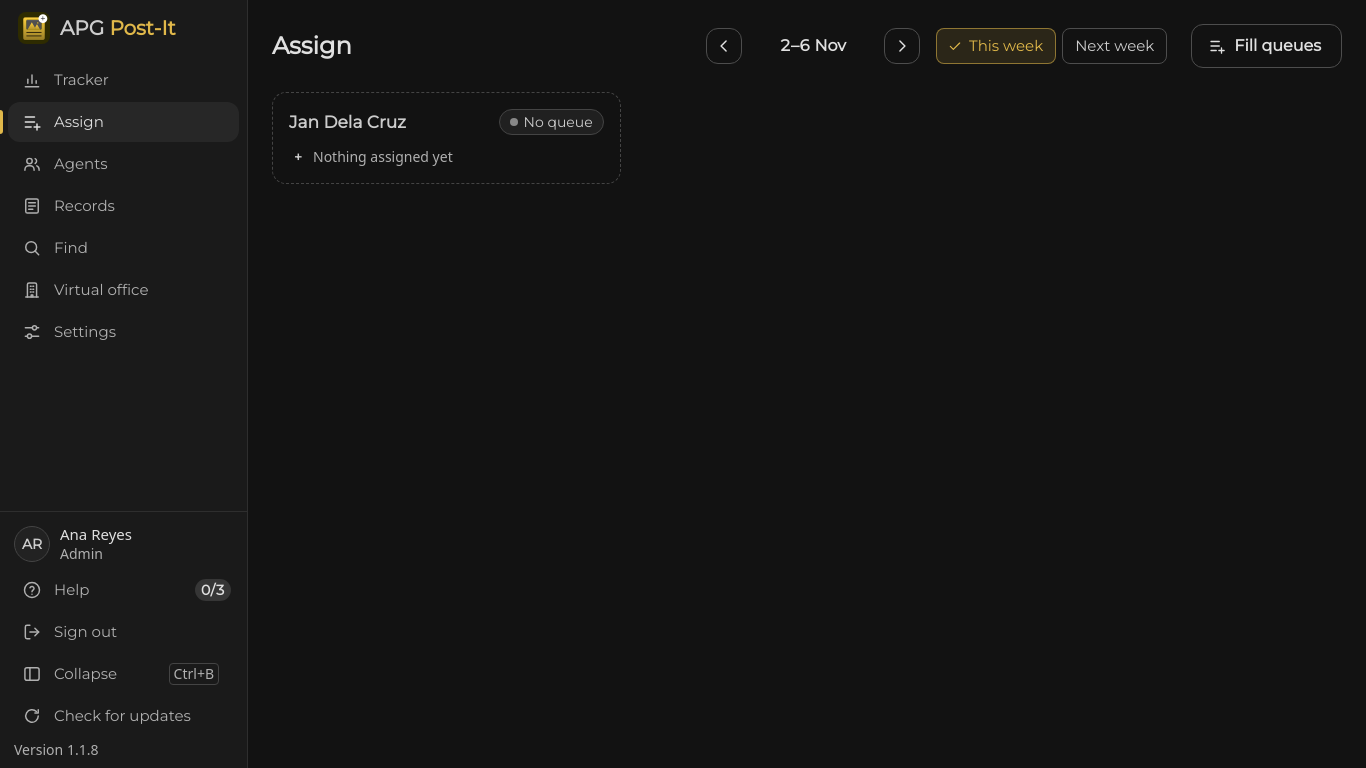
Assign → Fill queues › ticks the agents once the team arrives, when Fill queues was opened before it did (D31)
The image size is (1366, 768).
What coordinates should you click on to do the following:
click the button "Fill queues"
I would click on:
 (1267, 46)
Its box is 1191,24 -> 1342,68.
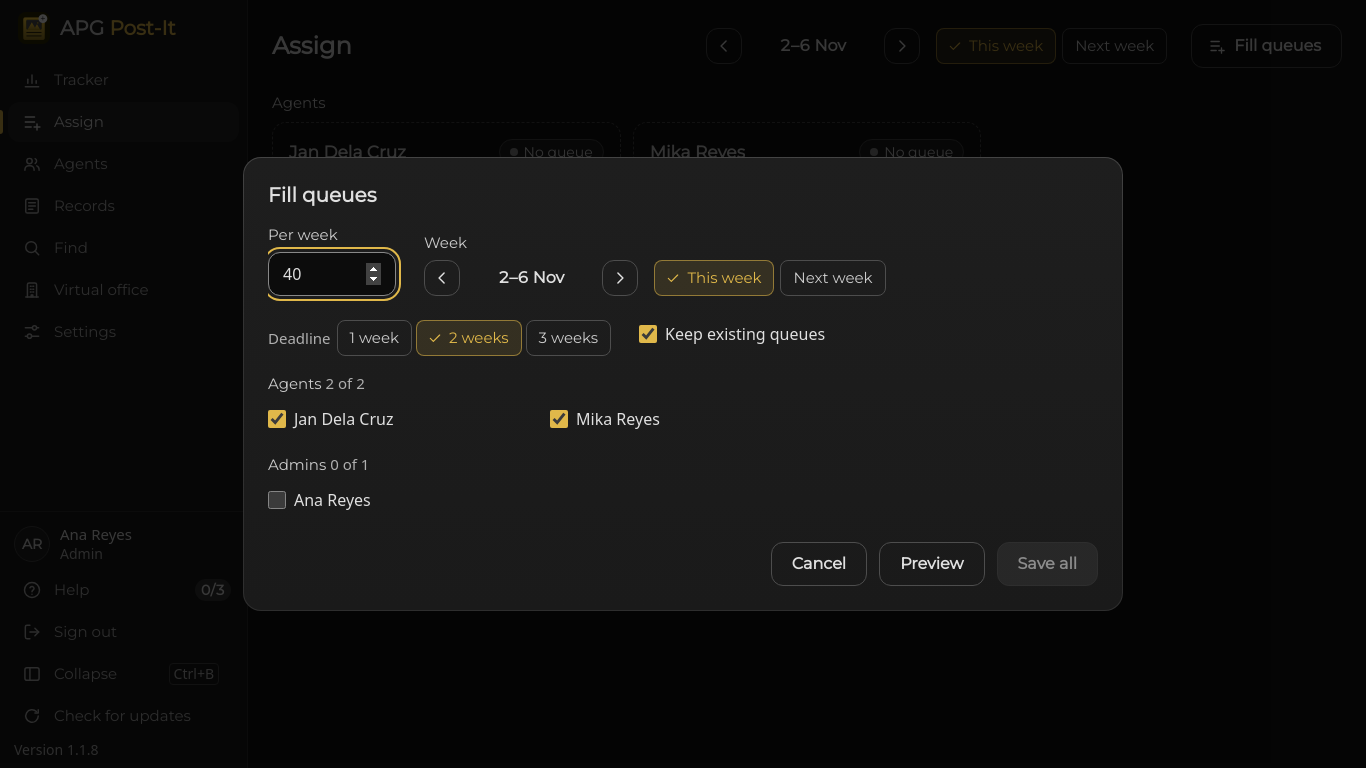
Result: the element "Agents 2 of 2" is shown at 268,373 -> 660,430
Result: the element "Admins 0 of 1" is shown at 268,454 -> 371,511
Result: the button "Preview" is enabled at 879,542 -> 984,586
